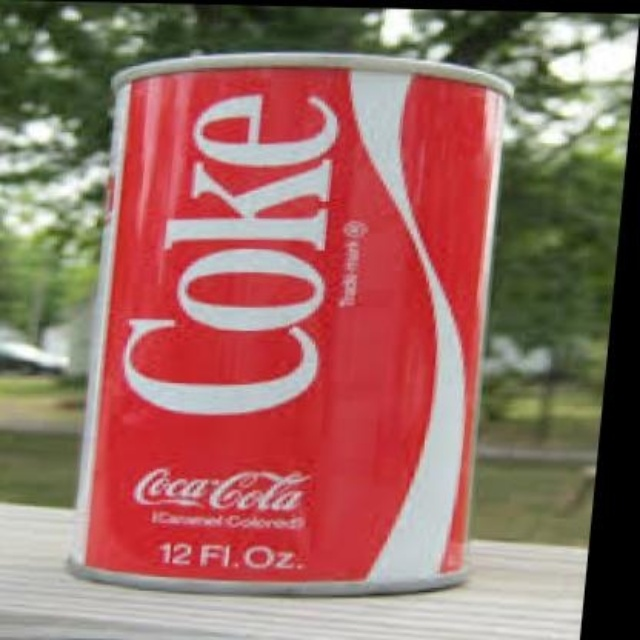trash: (75, 52, 511, 592)
